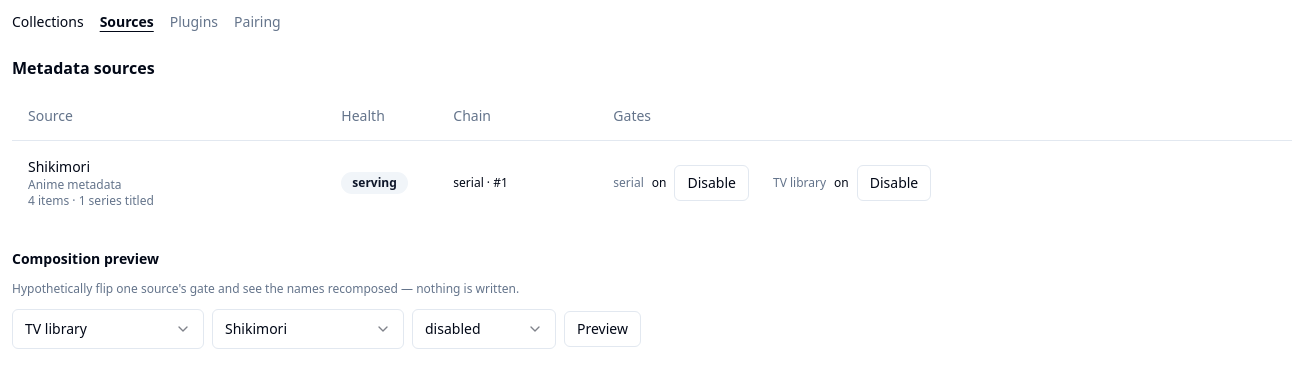
Test case: Sources — admin surface (plugin-title-enrichment 6.2) › module toggle: disable renders queued 0 with no wake notice, enable renders the queued count inline
Expected: the row that starts with "Shikimori" is shown, [12,140,1291,224]
# Disable module-wide.
Click the button with aria-label "module serial shikimori": (712, 182) [674,164,749,200]
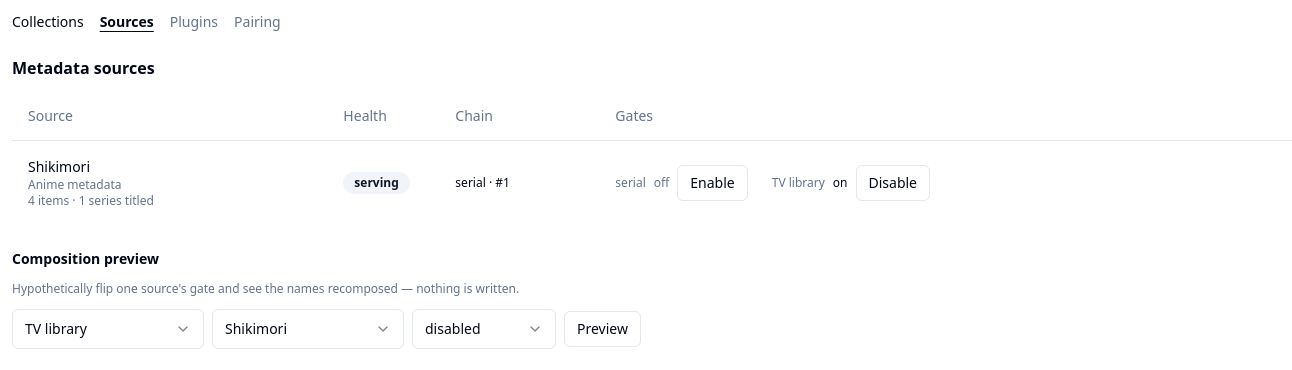
Expected: the text "re-enriching" is not shown
Expected: the button with aria-label "module serial shikimori" reads "Enable"
Click the button with aria-label "module serial shikimori": (712, 182) [677,164,748,200]
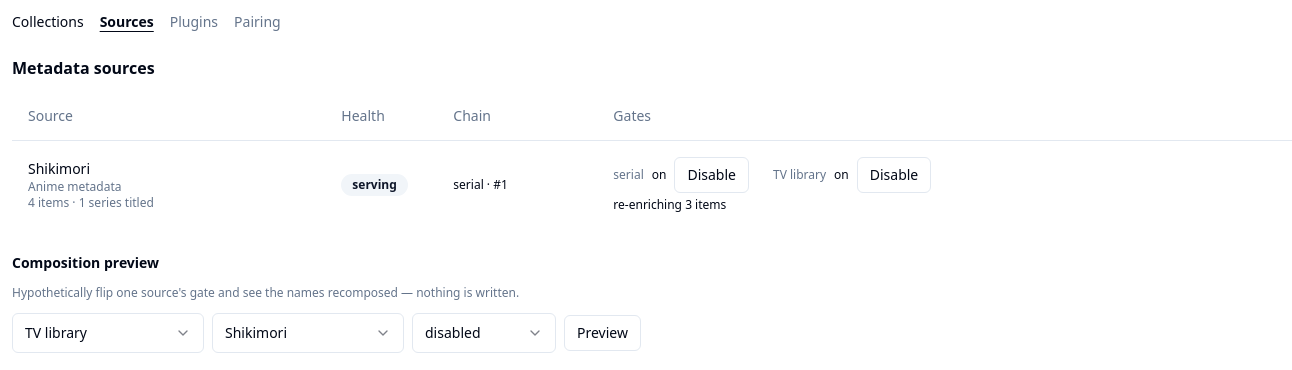
Expected: the text "re-enriching 3 items" is shown, [613,196,726,212]
